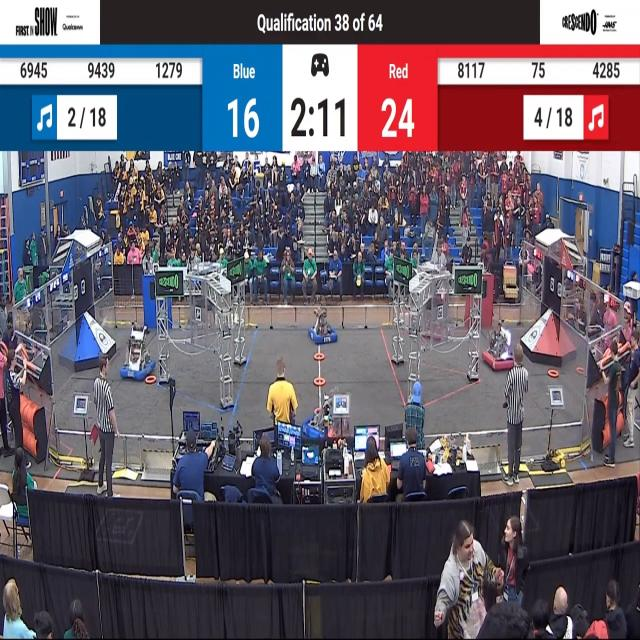Robot: (482, 316, 518, 376), (122, 323, 156, 385), (304, 388, 332, 441), (307, 307, 337, 349)
